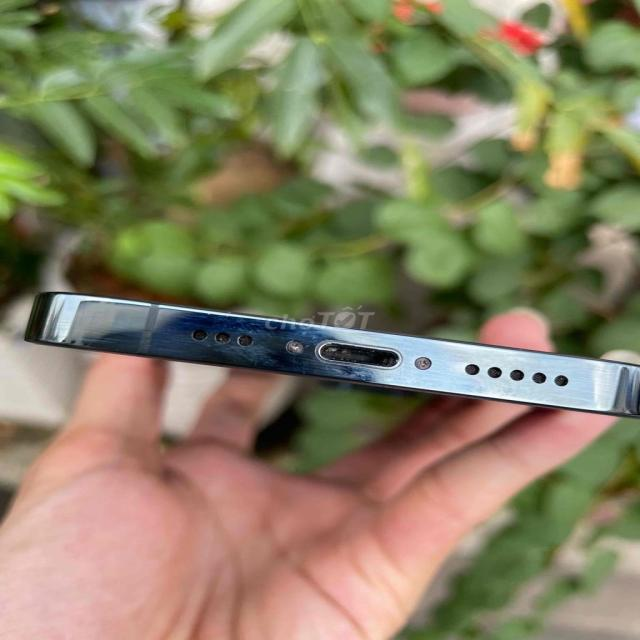scratch: (110, 302, 423, 400)
